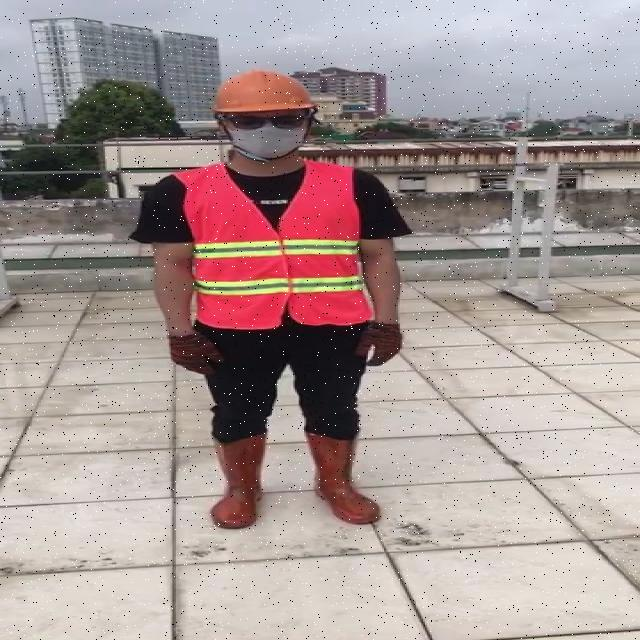Hard_hat: (206, 67, 325, 127)
Person: (126, 68, 421, 566)
Vest: (188, 158, 369, 329)
